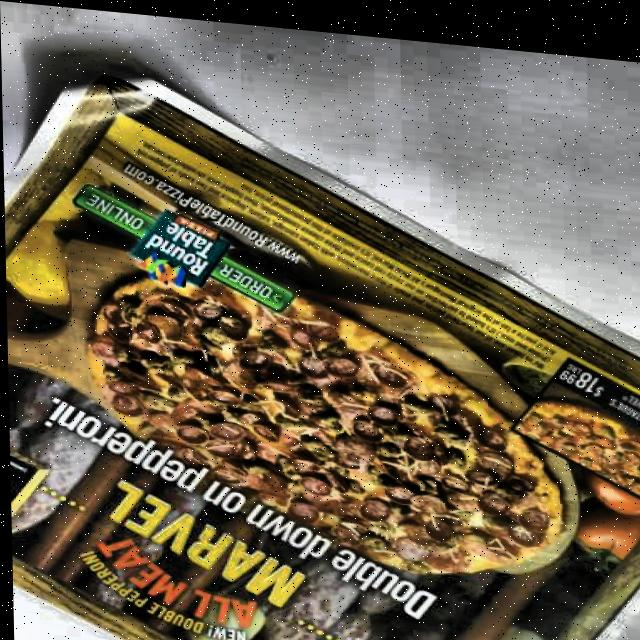paper: (1, 67, 640, 640)
